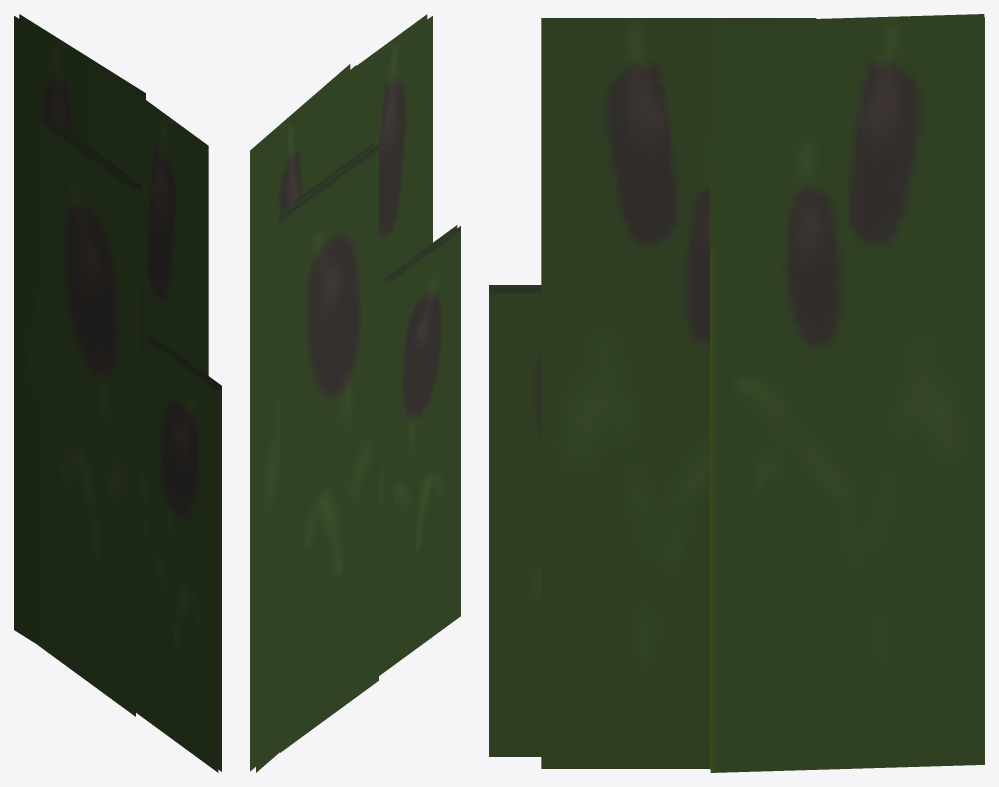
Rendered from Reeds_1.FBX.
3 renders of one model, left to right at view 1: azimuth 30°, elevation 25°; view 2: azimuth 150°, elevation 25°; view 3: azimuth 270°, elevation 25°, orthographic. The views are drawn at different scales.
Visible parts, largest first — view 1: Reeds_1; view 2: Reeds_1; view 3: Reeds_1.
Boxes of the visible parts, left/top/right/bottom form: Reeds_1: left=14, top=14, right=221, bottom=772; Reeds_1: left=250, top=14, right=460, bottom=772; Reeds_1: left=489, top=14, right=984, bottom=772.
Size of the model in its own units: 3.99 by 121 by 72.87.
